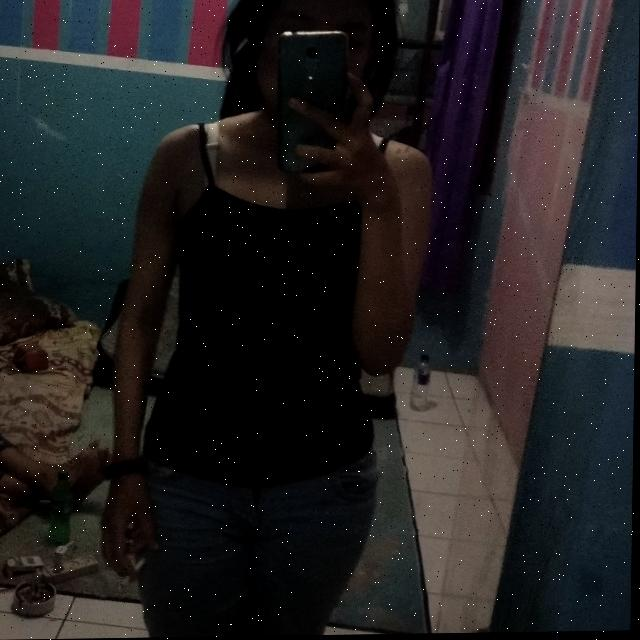cigarette: (119, 557, 148, 592)
